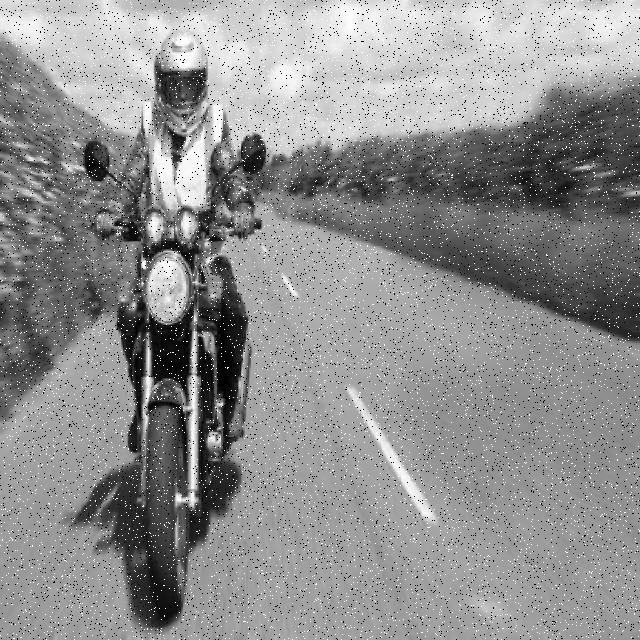Motorbike: (83, 31, 267, 622)
